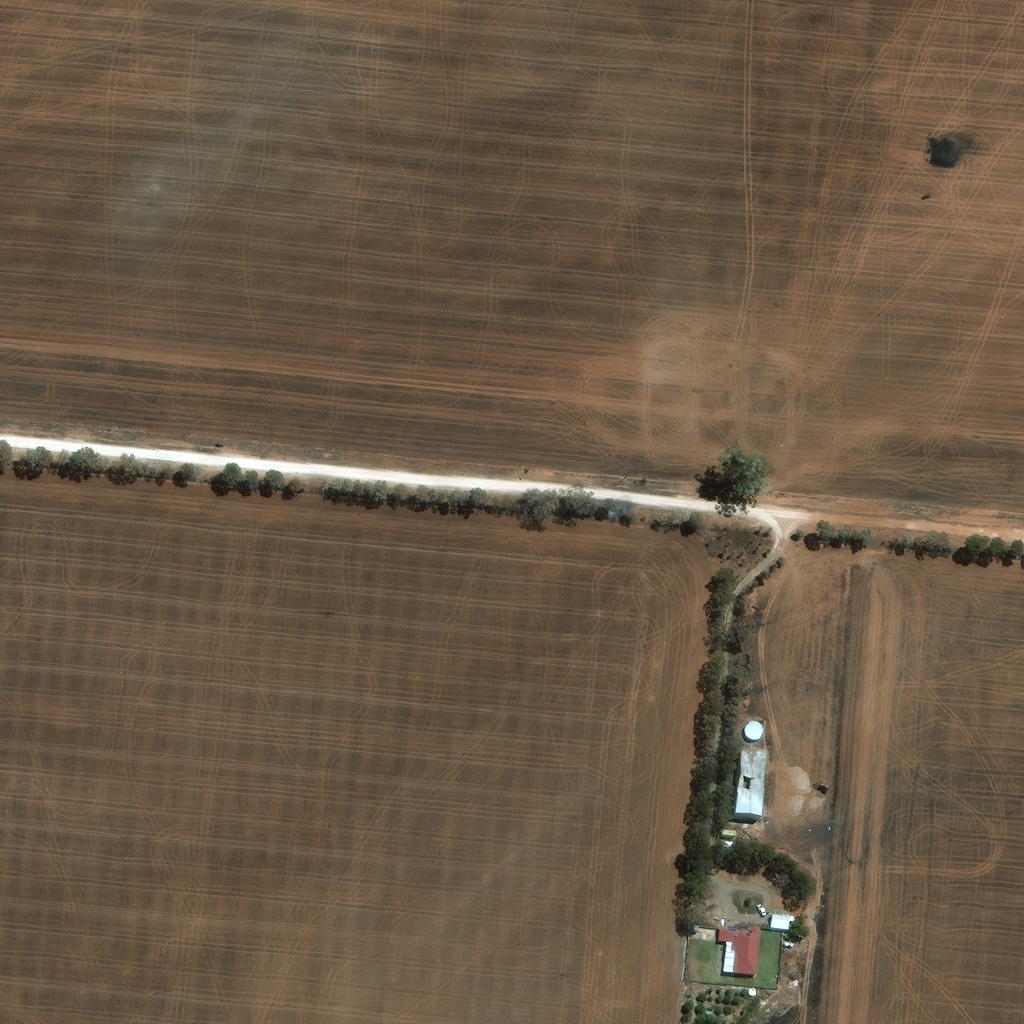0 no-damage: (733, 748, 767, 818), (717, 922, 760, 975), (771, 908, 794, 928), (743, 718, 764, 738), (720, 838, 736, 846), (720, 827, 736, 834), (748, 984, 757, 994), (783, 939, 795, 945)
